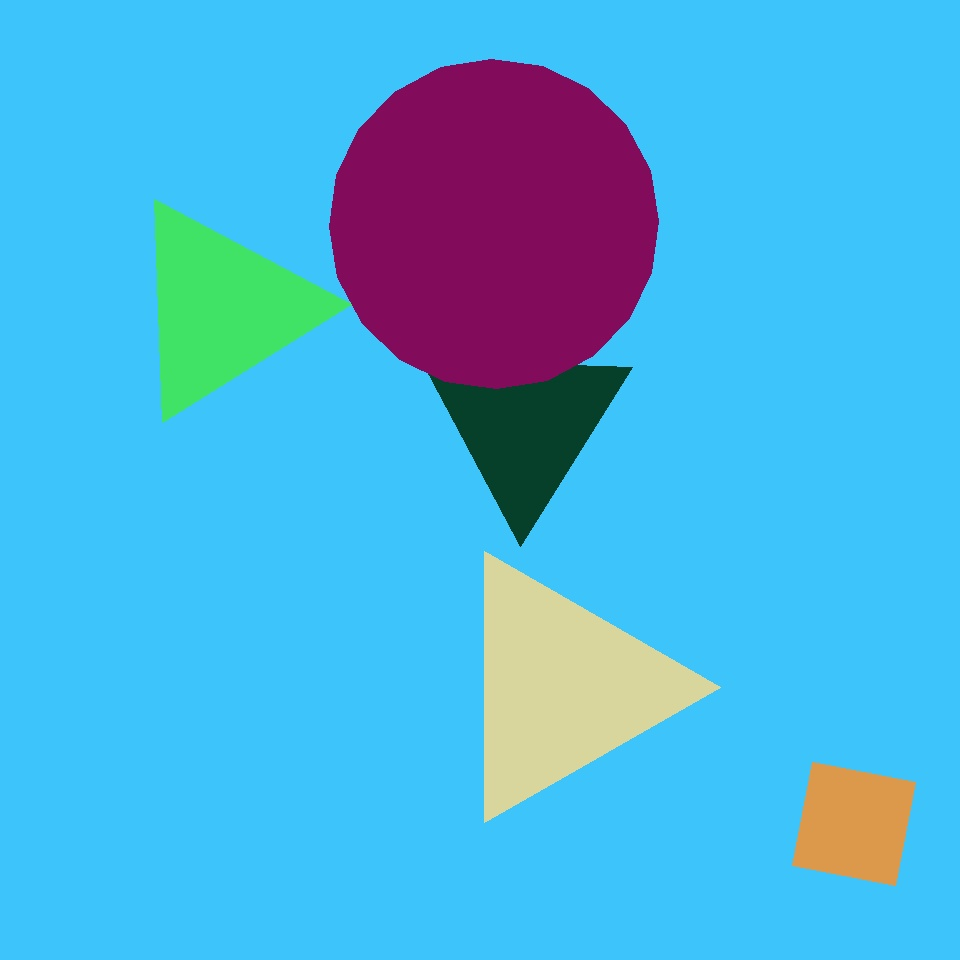circle: (445, 552, 681, 822), (125, 198, 322, 420), (420, 332, 630, 518), (91, 41, 181, 132)
square: (792, 762, 916, 886)
triangle: (437, 504, 811, 878), (95, 183, 458, 546), (592, 554, 951, 913), (329, 60, 658, 388), (671, 156, 811, 297), (373, 771, 479, 876)
